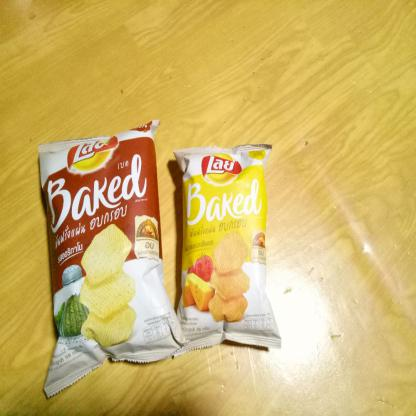potatochip: (36, 118, 188, 398), (171, 142, 280, 356)
